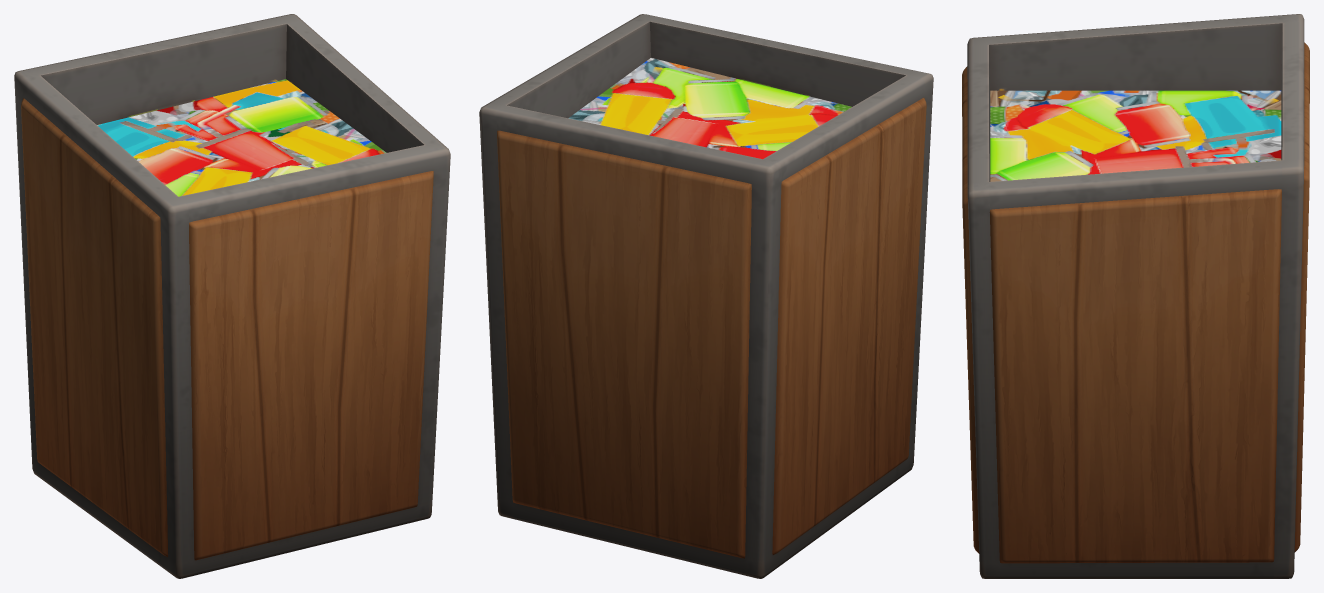
The model's file is ParkUrn01_1.FBX.
3 views of the same model, side by side, from view 1: azimuth 30°, elevation 25°; view 2: azimuth 150°, elevation 25°; view 3: azimuth 270°, elevation 25° (orthographic). The views are drawn at different scales.
Visible parts, largest first — view 1: ParkUrn01_1; view 2: ParkUrn01_1; view 3: ParkUrn01_1.
Part boxes in pixels (box(x1,y1,x2,y2)): ParkUrn01_1: box(14, 14, 450, 578); ParkUrn01_1: box(479, 14, 933, 578); ParkUrn01_1: box(962, 14, 1309, 578).
Size of what is drawn, in the model's own units: 0.6391 by 0.8439 by 0.6204.
